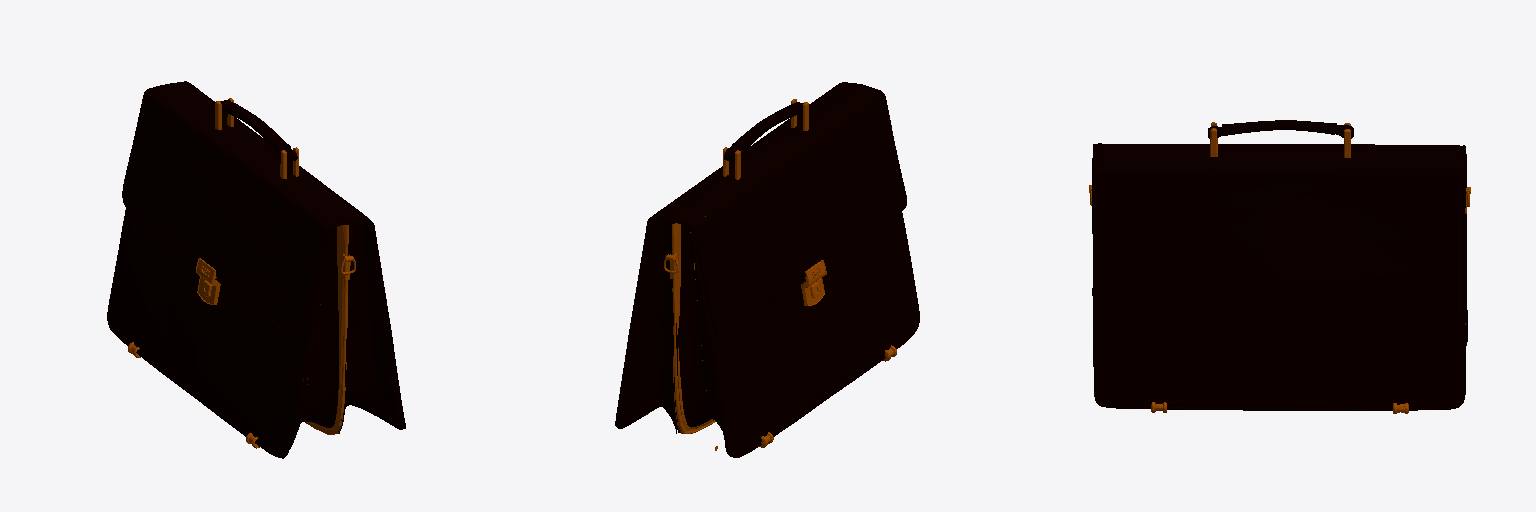
Rendered from men_bag_brown.obj.
The picture shows the model from 3 angles: view 1: azimuth 30°, elevation 25°; view 2: azimuth 150°, elevation 25°; view 3: azimuth 270°, elevation 25°; orthographic projection.
Parts seen in each view (by area): view 1: Loft01.001; view 2: Loft01.001; view 3: Loft01.001.
Boxes of the visible parts, x1,y1,x2,y2 form: Loft01.001: [107, 81, 405, 458]; Loft01.001: [615, 82, 919, 457]; Loft01.001: [1089, 120, 1470, 413].
Bounding box in the file's own units: 0.0128 × 0.0248 × 0.0321.